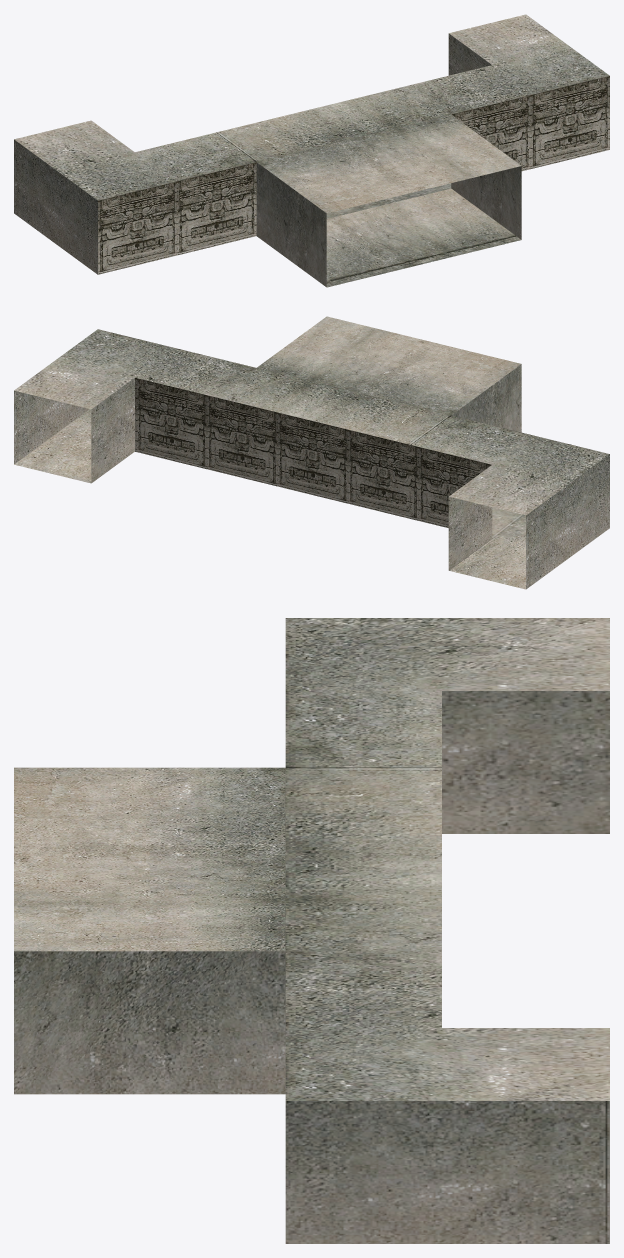
The model's file is thm_yavn_temple_blueleaf_cluster_r1_foyer1_mesh.fbx.
The picture shows the model from 3 angles, top to bottom: view 1: azimuth 30°, elevation 25°; view 2: azimuth 150°, elevation 25°; view 3: azimuth 270°, elevation 25°; orthographic projection. The views are drawn at different scales.
Parts seen in each view (by area): view 1: mesh_node; view 2: mesh_node; view 3: mesh_node.
Part boxes in pixels (x1,y1,x2,y2): mesh_node: (14,14,609,287); mesh_node: (14,316,609,589); mesh_node: (14,618,609,1243).
Bounding box in the file's own units: 31.53 × 4.36 × 16.45.
